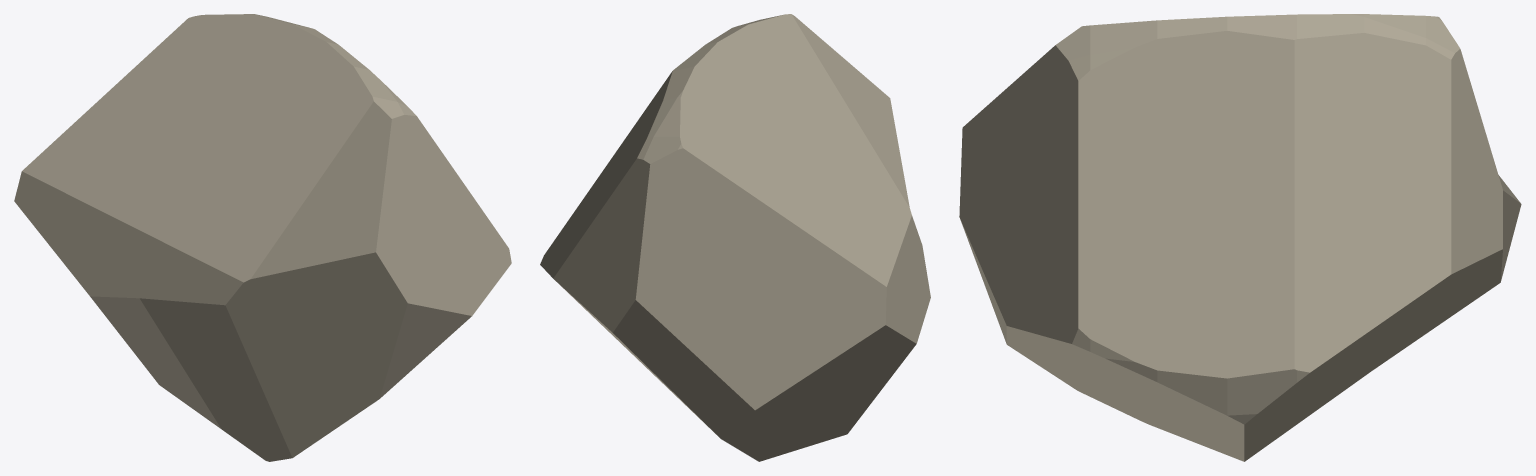
The model's file is Rock.fbx.
The picture shows the model from 3 angles, left to right: view 1: azimuth 30°, elevation 25°; view 2: azimuth 150°, elevation 25°; view 3: azimuth 270°, elevation 25°; orthographic projection. The views are drawn at different scales.
Parts seen in each view (by area): view 1: Sphere.001; view 2: Sphere.001; view 3: Sphere.001.
Boxes of the visible parts, x1,y1,x2,y2 form: Sphere.001: (14,14,511,461); Sphere.001: (540,14,930,461); Sphere.001: (959,14,1521,461).
Size of the model in its own units: 409 by 395 by 425.
